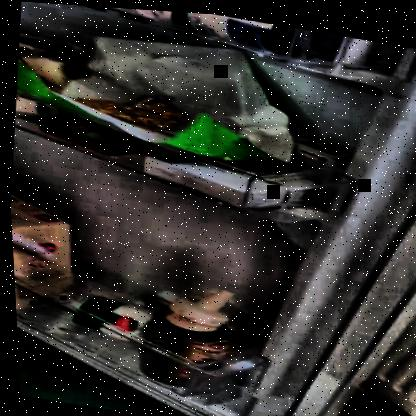milk: (8, 195, 79, 309)
